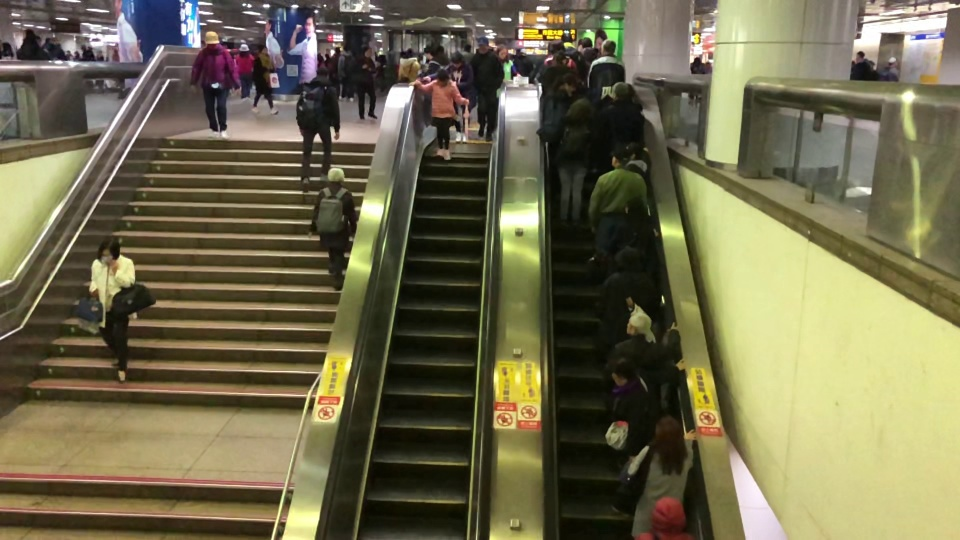person_head: (649, 495, 688, 534), (654, 413, 683, 457), (624, 312, 651, 339), (613, 244, 641, 270), (96, 236, 121, 265), (609, 356, 634, 384), (567, 95, 594, 118), (611, 80, 635, 103), (623, 196, 645, 220), (559, 70, 577, 98), (610, 145, 630, 168), (625, 140, 643, 163), (326, 166, 345, 187), (203, 30, 221, 52), (552, 47, 570, 66), (600, 38, 617, 56), (450, 49, 466, 67), (475, 35, 490, 54), (437, 67, 450, 88), (493, 43, 508, 61), (548, 40, 566, 55), (315, 65, 330, 82), (237, 42, 250, 58), (423, 43, 436, 59), (361, 43, 373, 59), (402, 46, 415, 59), (257, 41, 269, 55), (560, 32, 574, 44), (855, 48, 865, 63), (23, 28, 35, 40), (582, 35, 592, 48), (888, 55, 897, 69), (462, 42, 473, 53), (692, 55, 701, 66), (519, 45, 527, 56), (342, 42, 349, 52), (333, 46, 341, 53)
person_vbox: (608, 416, 698, 538), (604, 354, 686, 465), (77, 235, 137, 384), (536, 95, 597, 227), (586, 146, 648, 262), (600, 312, 682, 396), (597, 245, 658, 349), (307, 166, 358, 290), (187, 29, 242, 140), (295, 66, 341, 193), (407, 69, 470, 159), (421, 51, 477, 143), (599, 82, 645, 174), (469, 33, 504, 142), (606, 196, 654, 268), (585, 39, 626, 108), (542, 73, 583, 128), (252, 40, 279, 117), (494, 42, 523, 102), (356, 44, 378, 123), (536, 50, 578, 83), (559, 31, 589, 76), (336, 42, 358, 102), (235, 41, 256, 102), (15, 27, 50, 62), (396, 45, 423, 84), (575, 36, 599, 78), (688, 55, 706, 107), (544, 40, 576, 69), (417, 45, 443, 77), (327, 46, 342, 99), (512, 44, 534, 78), (878, 53, 900, 81), (851, 50, 871, 79), (459, 42, 476, 62)
